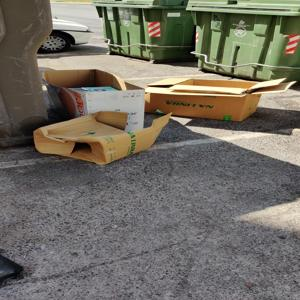cardboard: (148, 70, 271, 127), (37, 117, 166, 163), (65, 80, 154, 138), (39, 64, 130, 99)
